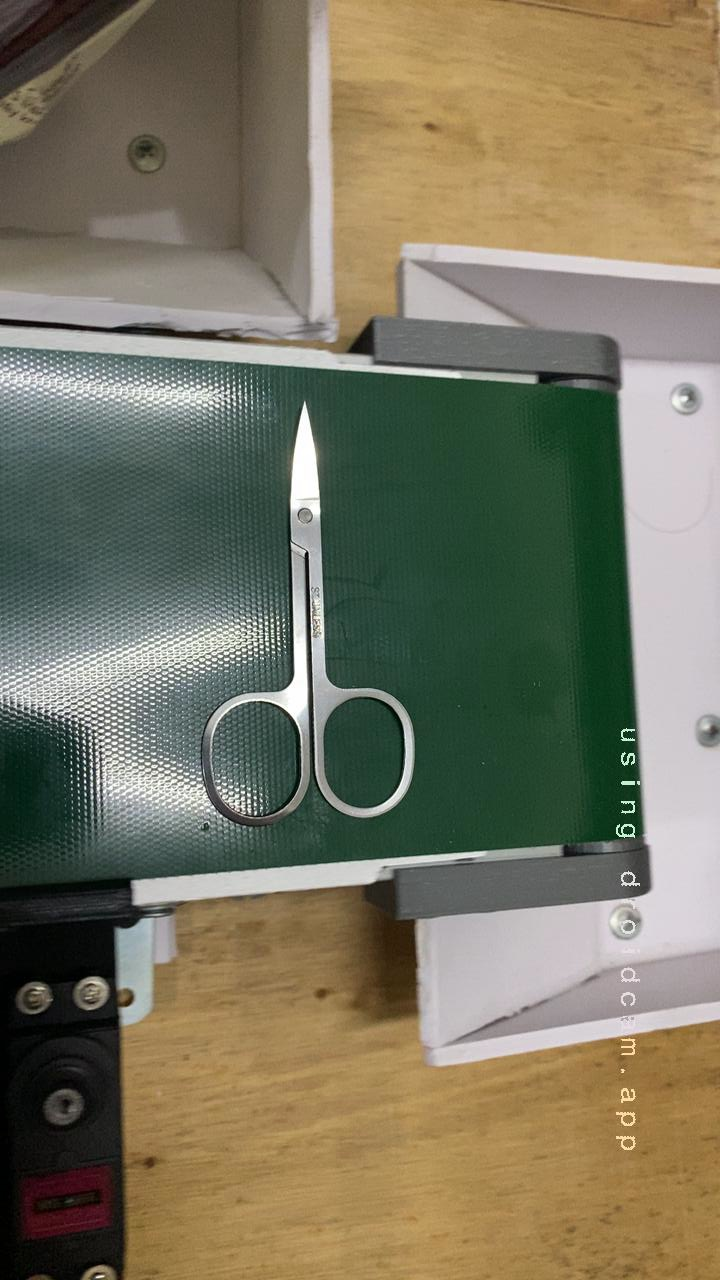scissor: (183, 415, 438, 851)
